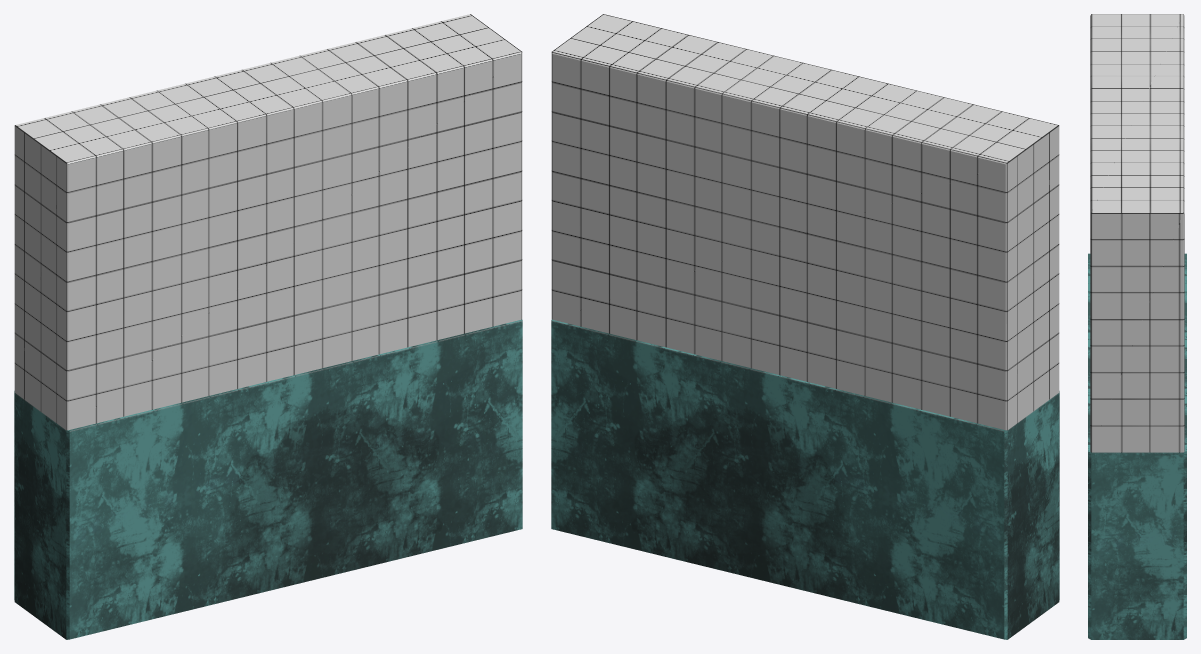
Rendered from wall.fbx.
3 renders of one model, left to right at view 1: azimuth 30°, elevation 25°; view 2: azimuth 150°, elevation 25°; view 3: azimuth 270°, elevation 25°, orthographic. The views are drawn at different scales.
Parts seen in each view (by area): view 1: Cube; view 2: Cube; view 3: Cube.
Boxes of the visible parts, x1,y1,x2,y2 form: Cube: [14, 14, 522, 639]; Cube: [551, 14, 1059, 639]; Cube: [1088, 14, 1186, 639].
Size of the model in its own units: 300 by 300 by 63.
